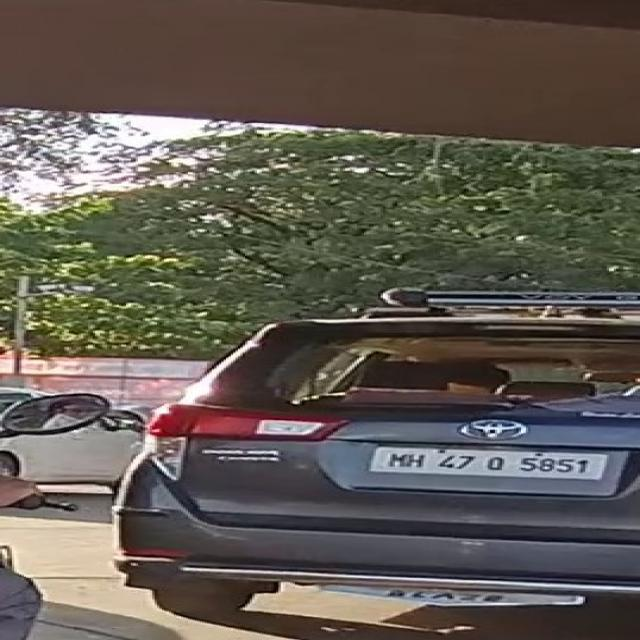Plate: (370, 445, 603, 481)
